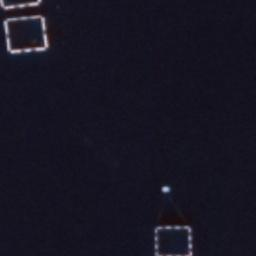square_solid: (1, 13, 51, 56), (152, 220, 196, 256)
